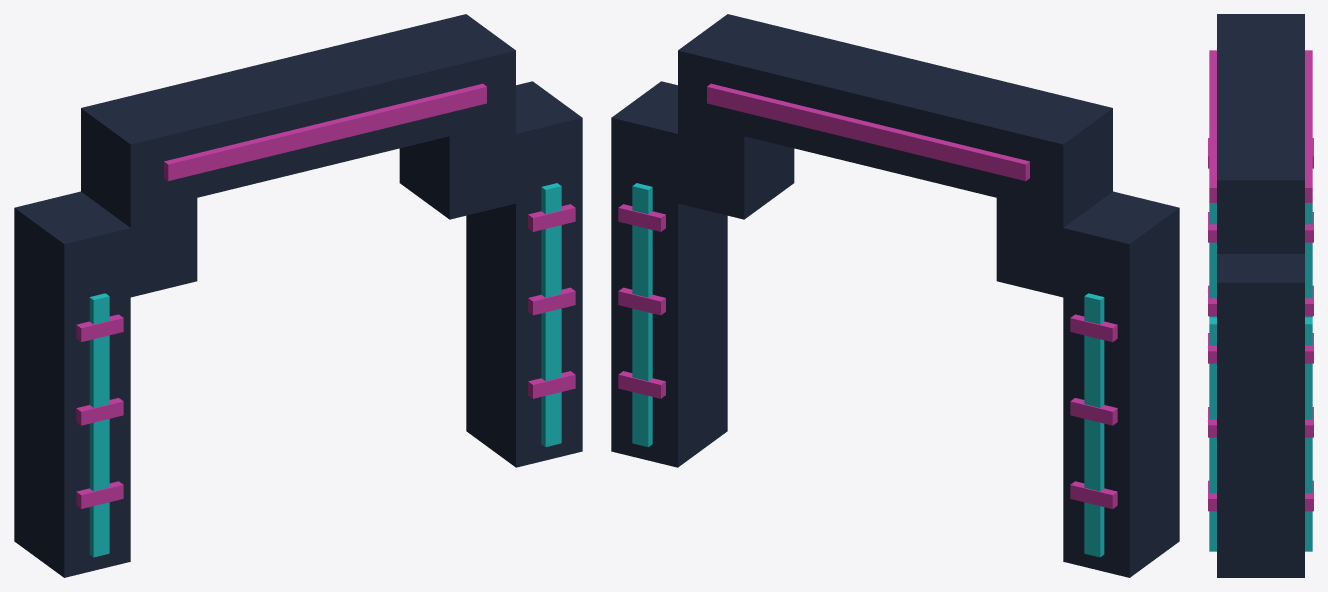
File: Neon_PixelGate_Standard.glb
The picture shows the model from 3 angles, left to right: view 1: azimuth 30°, elevation 25°; view 2: azimuth 150°, elevation 25°; view 3: azimuth 270°, elevation 25°; orthographic projection. The views are drawn at different scales.
Parts seen in each view (by area): view 1: Neon_PixelGate_Standard; view 2: Neon_PixelGate_Standard; view 3: Neon_PixelGate_Standard.
Boxes of the visible parts, x1,y1,x2,y2 form: Neon_PixelGate_Standard: (14,14,582,577); Neon_PixelGate_Standard: (611,14,1179,577); Neon_PixelGate_Standard: (1208,14,1313,577).
Bounding box in the file's own units: 3.9 × 3 × 0.78.
